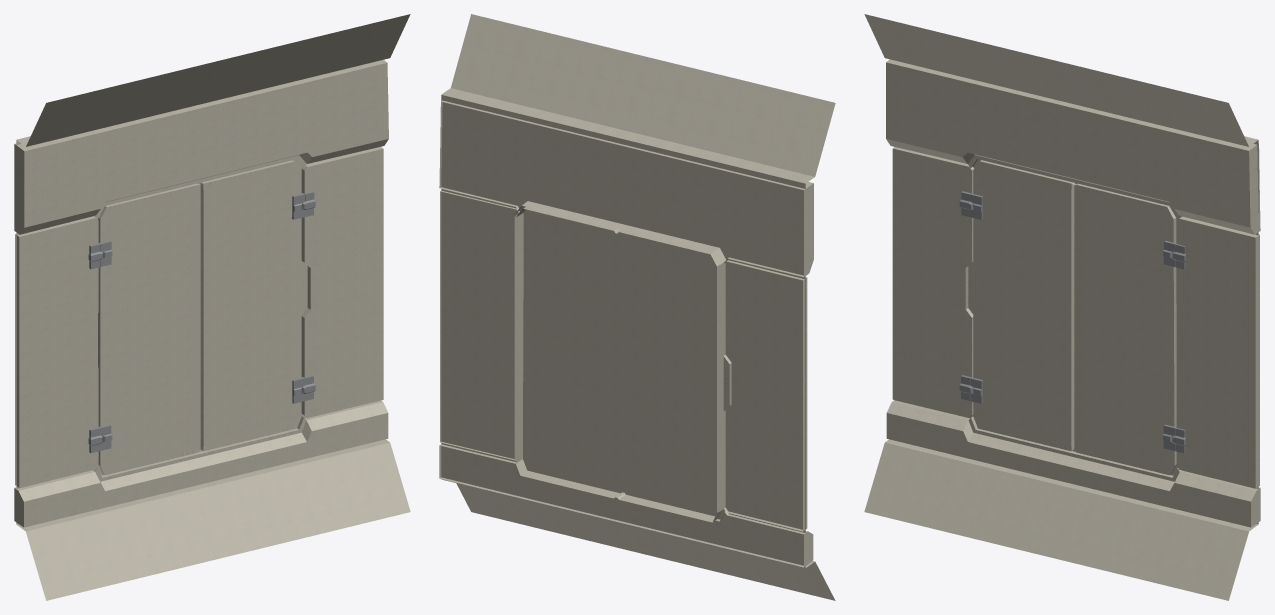
Rendered from WallpolySurface70.fbx.
3 views of the same model, side by side, from view 1: azimuth 30°, elevation 25°; view 2: azimuth 150°, elevation 25°; view 3: azimuth 330°, elevation 25° (orthographic).
Visible parts, largest first — view 1: polySurface70; view 2: polySurface70; view 3: polySurface70.
Boxes of the visible parts, x1=… form: polySurface70: x1=14, y1=14, x2=410, y2=600; polySurface70: x1=439, y1=14, x2=835, y2=600; polySurface70: x1=864, y1=14, x2=1260, y2=600.
Bounding box in the file's own units: 101 × 132 × 17.72.
